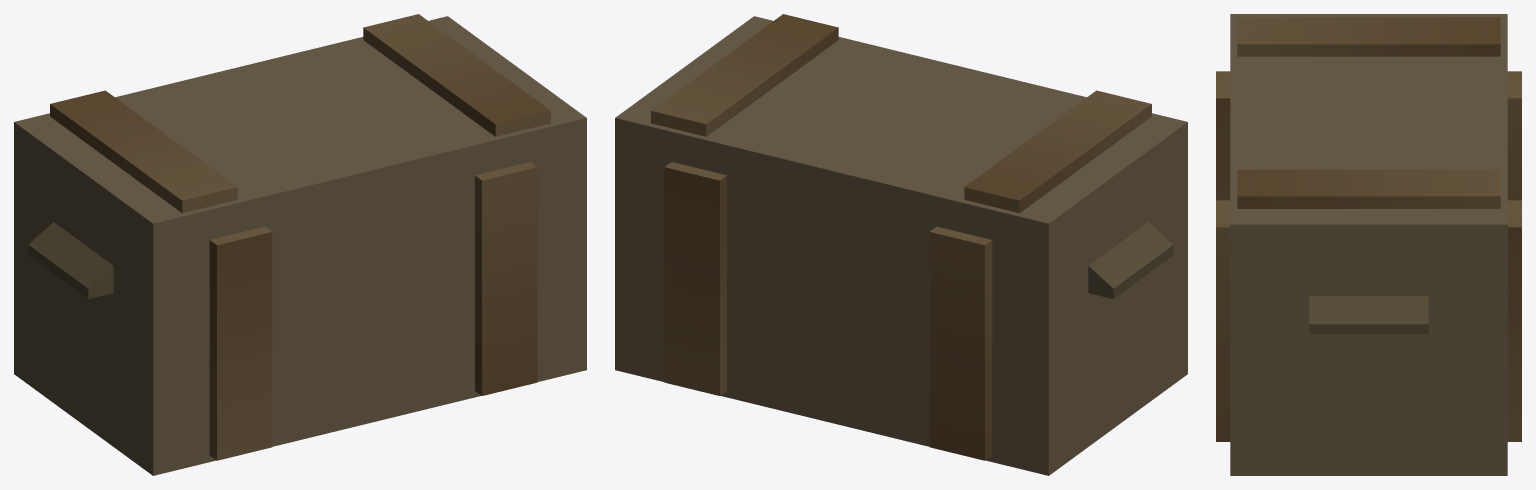
The model's file is Crate_3_LOD1.fbx.
The picture shows the model from 3 angles, left to right: view 1: azimuth 30°, elevation 25°; view 2: azimuth 150°, elevation 25°; view 3: azimuth 270°, elevation 25°; orthographic projection.
Parts seen in each view (by area): view 1: polySurface9649; view 2: polySurface9649; view 3: polySurface9649.
Part boxes in pixels (bbox=[...]): polySurface9649: bbox=[14, 14, 586, 475]; polySurface9649: bbox=[615, 14, 1187, 475]; polySurface9649: bbox=[1216, 14, 1521, 475].
Bounding box in the file's own units: 201 × 105 × 110.
